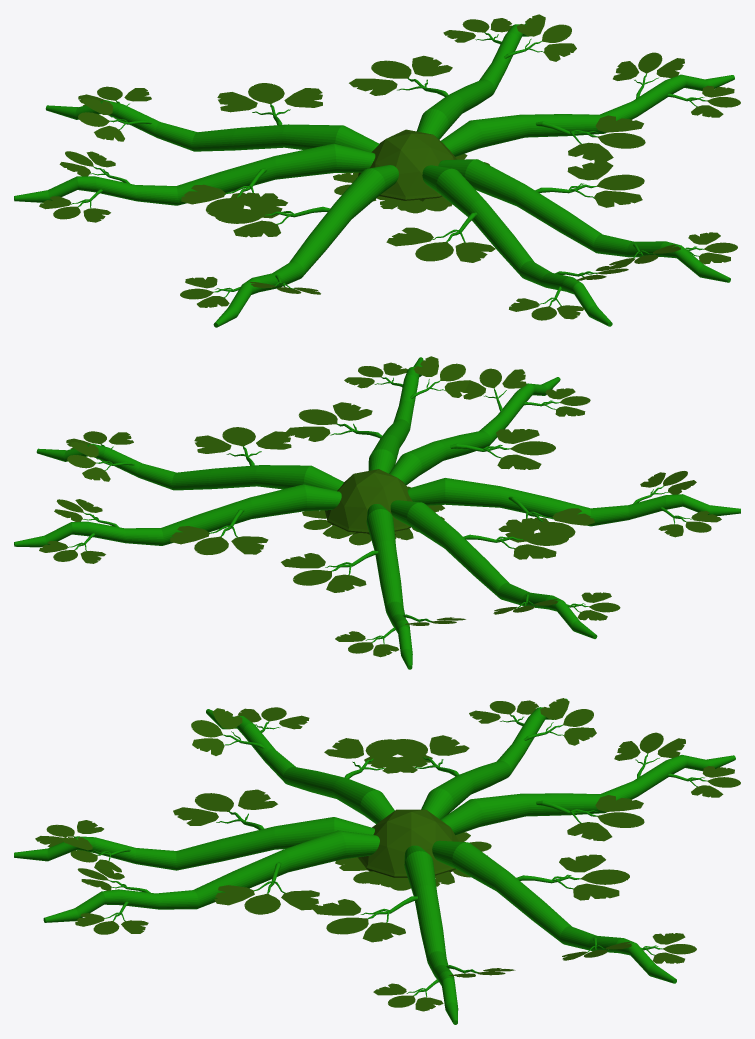
Rendered from poison_oak_FINAL.fbx.
3 views of the same model, one above another, from view 1: azimuth 30°, elevation 25°; view 2: azimuth 150°, elevation 25°; view 3: azimuth 270°, elevation 25° (orthographic). The views are drawn at different scales.
Parts seen in each view (by area): view 1: p_oak.final; view 2: p_oak.final; view 3: p_oak.final.
Part boxes in pixels (<box>): p_oak.final: <box>14,14,740,327</box>; p_oak.final: <box>14,356,740,669</box>; p_oak.final: <box>14,698,740,1024</box>.
Bounding box in the file's own units: 302 × 25.61 × 288.
